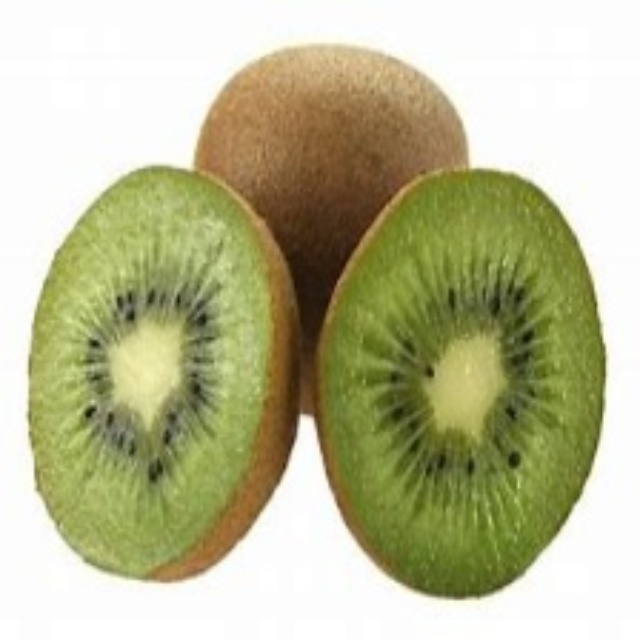kiwi: (317, 164, 608, 608), (27, 168, 300, 591), (180, 35, 473, 299)
